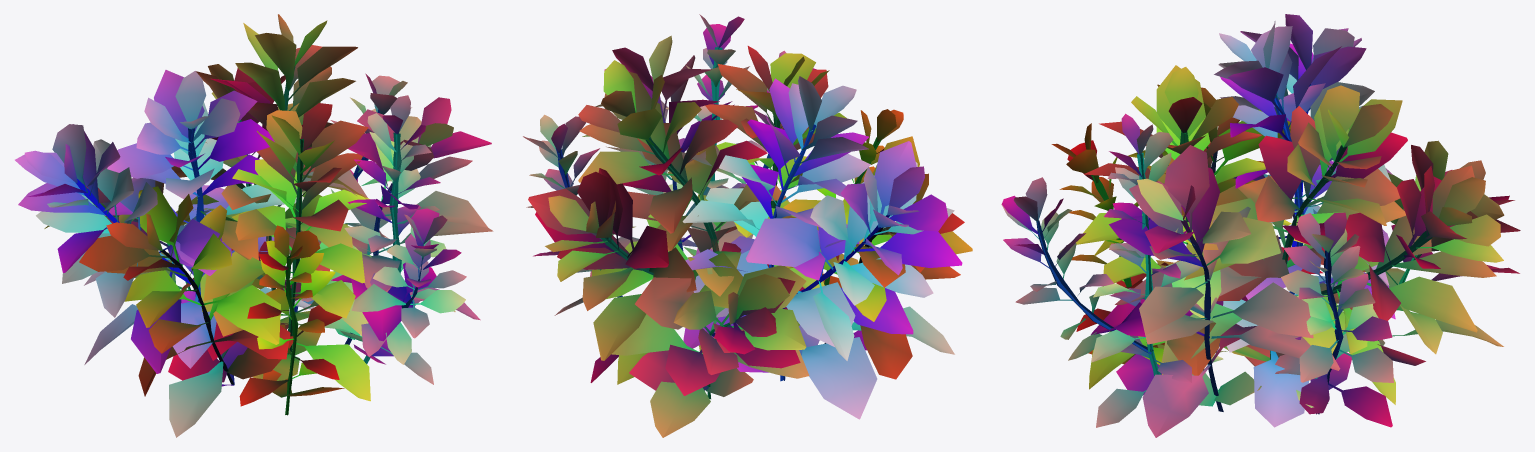
File: Bigleaf_Hydrangea_vgztealha_Mid_vgztealha_VarF_LOD2.fbx
The picture shows the model from 3 angles, left to right: view 1: azimuth 30°, elevation 25°; view 2: azimuth 150°, elevation 25°; view 3: azimuth 270°, elevation 25°; orthographic projection. The views are drawn at different scales.
Parts seen in each view (by area): view 1: _358i_VarF_LOD4; view 2: _358i_VarF_LOD4; view 3: _358i_VarF_LOD4.
Part boxes in pixels (bbox=[...]): _358i_VarF_LOD4: bbox=[15, 14, 493, 437]; _358i_VarF_LOD4: bbox=[523, 14, 972, 437]; _358i_VarF_LOD4: bbox=[1001, 14, 1520, 437].
Size of the model in its own units: 94.92 by 70.78 by 98.5.
